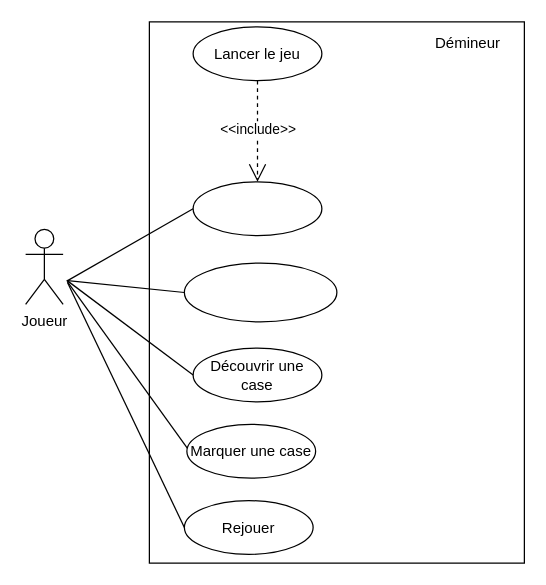
Image size: 546x585. Some labels were removed from this diagram. The box of each missing label's shape, as (x1, y1, x2, y2) in pixels:
Choisir une difficulté: (192, 181, 322, 236)
Enlever la marque d'une case: (183, 262, 337, 322)
